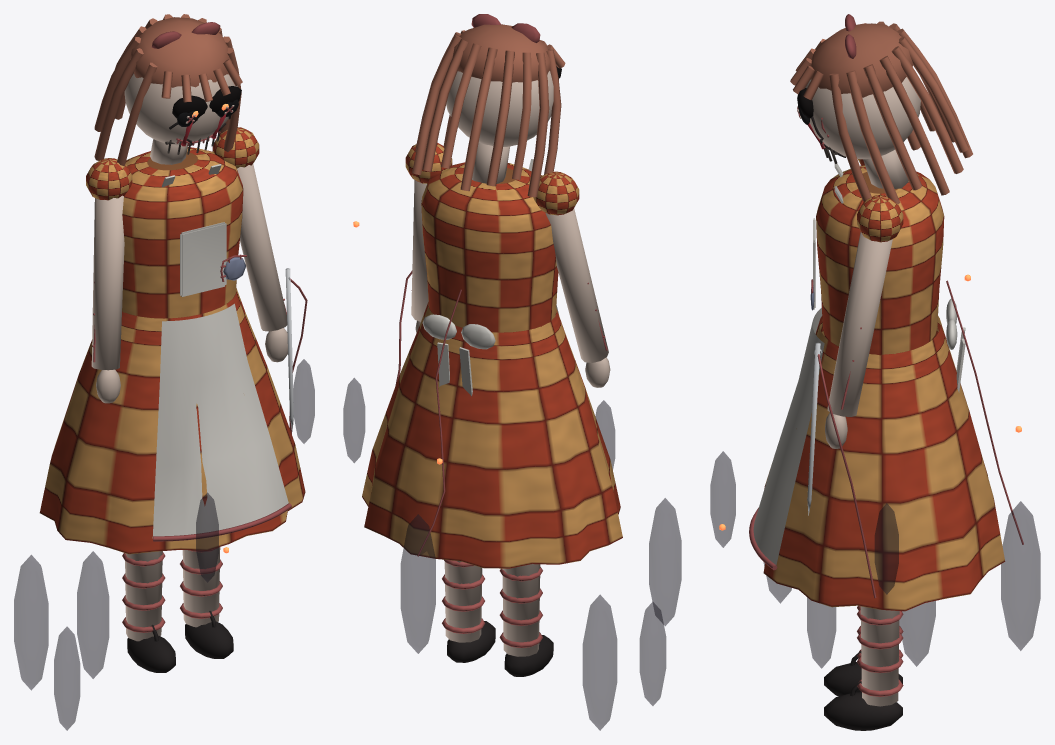
File: stitched_doll.glb
3 renders of one model, left to right at view 1: azimuth 30°, elevation 25°; view 2: azimuth 150°, elevation 25°; view 3: azimuth 270°, elevation 25°, orthographic. The views are drawn at different scales.
Visible parts, largest first — view 1: Doll_Root_Gingham, Doll_Root_Apron, Doll_Root_HSmoke, Head_YarnHair, ArmA_RagSkin, ArmB_RagSkin, Head_RagSkin, LegLegA, LegLegB, PuffArmA, LegA_MaryJane, LegB_MaryJane (+7 smaller); view 2: Doll_Root_Gingham, Doll_Root_HSmoke, Head_YarnHair, ArmA_RagSkin, Head_RagSkin, LegLegA, LegLegB, Tail_Apron, ArmB_RagSkin, PuffArmA, LegA_StockingRed, LegA_MaryJane (+5 smaller); view 3: Doll_Root_Gingham, Head_YarnHair, Doll_Root_HSmoke, ArmB_RagSkin, Doll_Root_Apron, Head_RagSkin, LegLegB, LegB_MaryJane, PuffArmB, LegB_StockingRed, LegA_MaryJane, ArmB_NeedleSteel (+3 smaller).
Part boxes in pixels (left/top/right/bottom): Doll_Root_Gingham: left=39, top=147, right=305, bottom=554; Doll_Root_Apron: left=152, top=164, right=288, bottom=538; Doll_Root_HSmoke: left=14, top=359, right=314, bottom=730; Head_YarnHair: left=94, top=14, right=242, bottom=166; ArmA_RagSkin: left=91, top=195, right=124, bottom=403; ArmB_RagSkin: left=237, top=164, right=287, bottom=362; Head_RagSkin: left=124, top=73, right=237, bottom=164; LegLegA: left=125, top=551, right=162, bottom=641; LegLegB: left=182, top=547, right=220, bottom=627; PuffArmA: left=86, top=158, right=132, bottom=200; LegA_MaryJane: left=127, top=624, right=175, bottom=672; LegB_MaryJane: left=185, top=611, right=233, bottom=658; Doll_Root_Gingham: left=362, top=162, right=622, bottom=568; Doll_Root_HSmoke: left=343, top=378, right=681, bottom=730; Head_YarnHair: left=412, top=24, right=565, bottom=197; ArmA_RagSkin: left=545, top=208, right=610, bottom=387; Head_RagSkin: left=446, top=71, right=553, bottom=183; LegLegA: left=502, top=564, right=540, bottom=656; LegLegB: left=444, top=561, right=482, bottom=642; Tail_Apron: left=422, top=314, right=495, bottom=396; ArmB_RagSkin: left=411, top=180, right=428, bottom=333; PuffArmA: left=533, top=171, right=579, bottom=215; LegA_StockingRed: left=499, top=567, right=542, bottom=647; LegA_MaryJane: left=504, top=635, right=553, bottom=676; Doll_Root_Gingham: left=763, top=165, right=1005, bottom=611; Head_YarnHair: left=790, top=21, right=972, bottom=204; Doll_Root_HSmoke: left=710, top=451, right=1040, bottom=668; ArmB_RagSkin: left=825, top=231, right=892, bottom=448; Doll_Root_Apron: left=753, top=163, right=843, bottom=566; Head_RagSkin: left=797, top=77, right=920, bottom=188; LegLegB: left=860, top=606, right=899, bottom=706; LegB_MaryJane: left=824, top=681, right=902, bottom=730; PuffArmB: left=857, top=195, right=903, bottom=242; LegB_StockingRed: left=857, top=609, right=903, bottom=696; LegA_MaryJane: left=824, top=651, right=902, bottom=696; ArmB_NeedleSteel: left=807, top=342, right=822, bottom=515.
Bounding box in the file's own units: 0.7516 × 1.65 × 0.6915.
17 materials, 1 textured.
